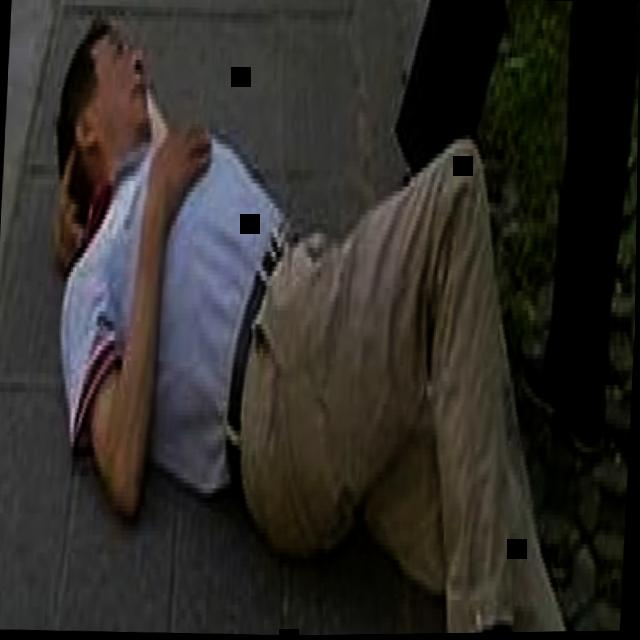Fall-Detected: (4, 0, 640, 640)
